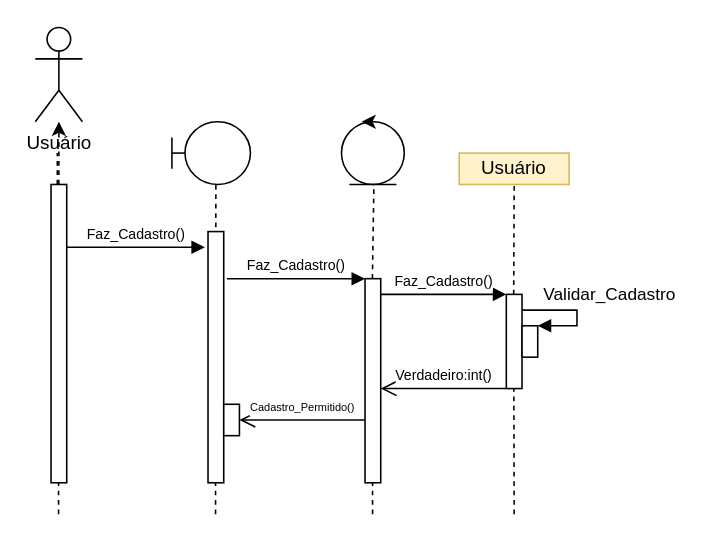
This 703x543 diagram has some shape labels left out. Each missing label, with the box of its shape:
:controler: (340, 120, 404, 184)
:view: (170, 120, 250, 184)
